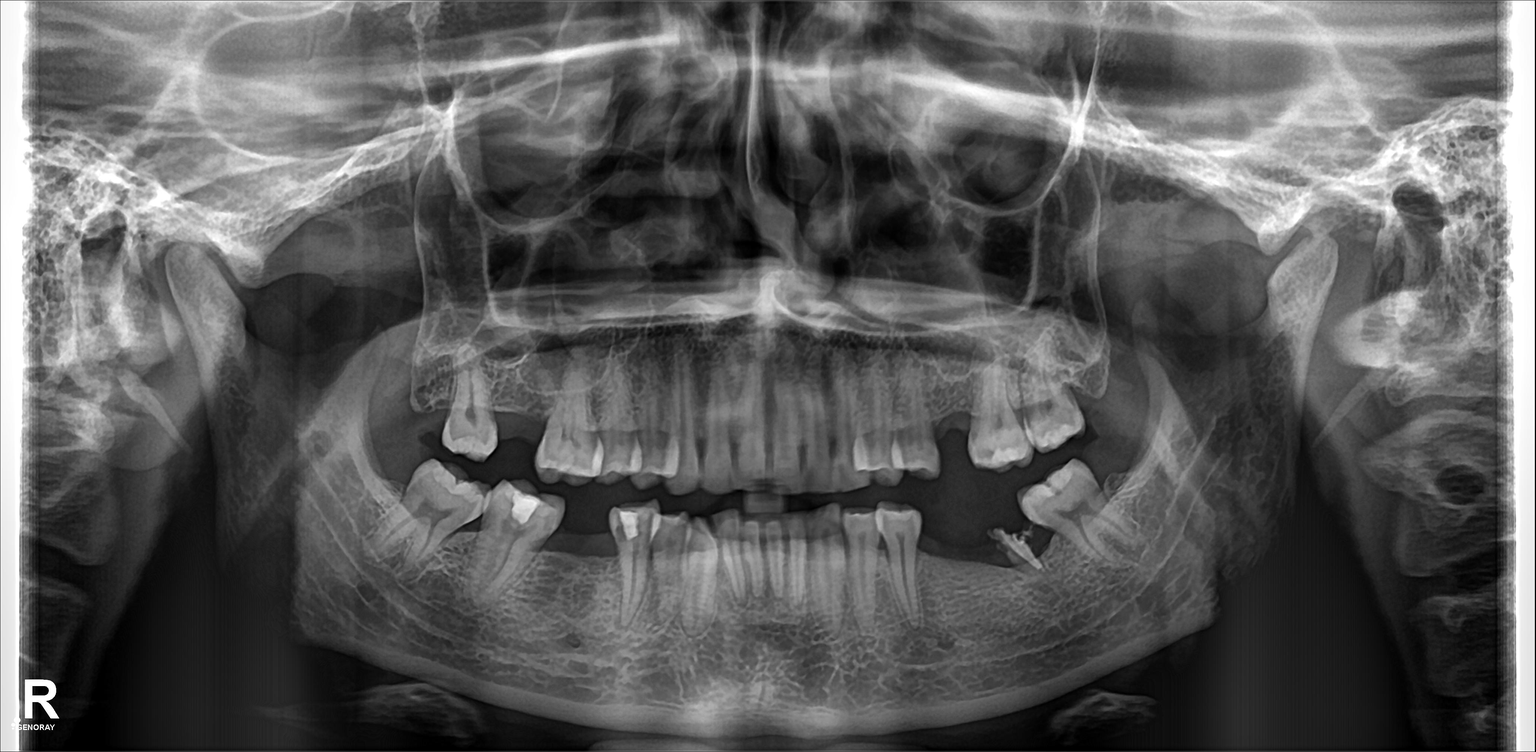Missing Tooth: (562, 498, 614, 620), (488, 363, 536, 459), (404, 363, 447, 450), (1091, 337, 1135, 422), (369, 428, 408, 520), (931, 514, 970, 597), (1102, 432, 1147, 499), (939, 395, 965, 468)
Retained Root: (983, 516, 1038, 587)
